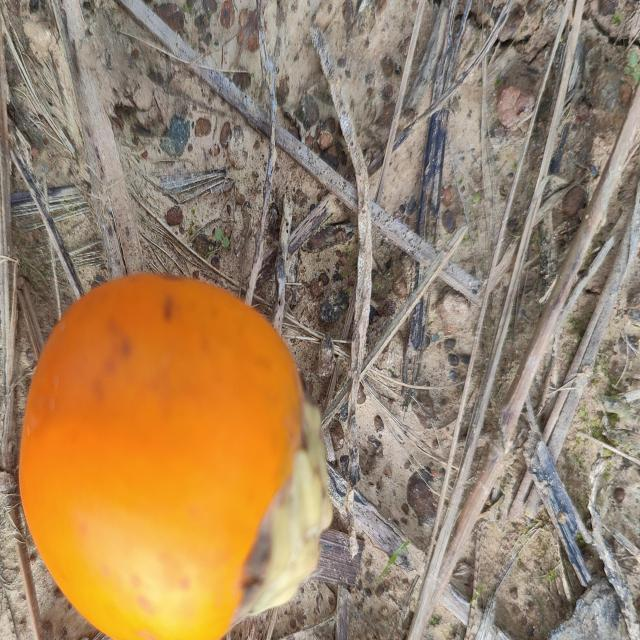good: (17, 274, 333, 640)
